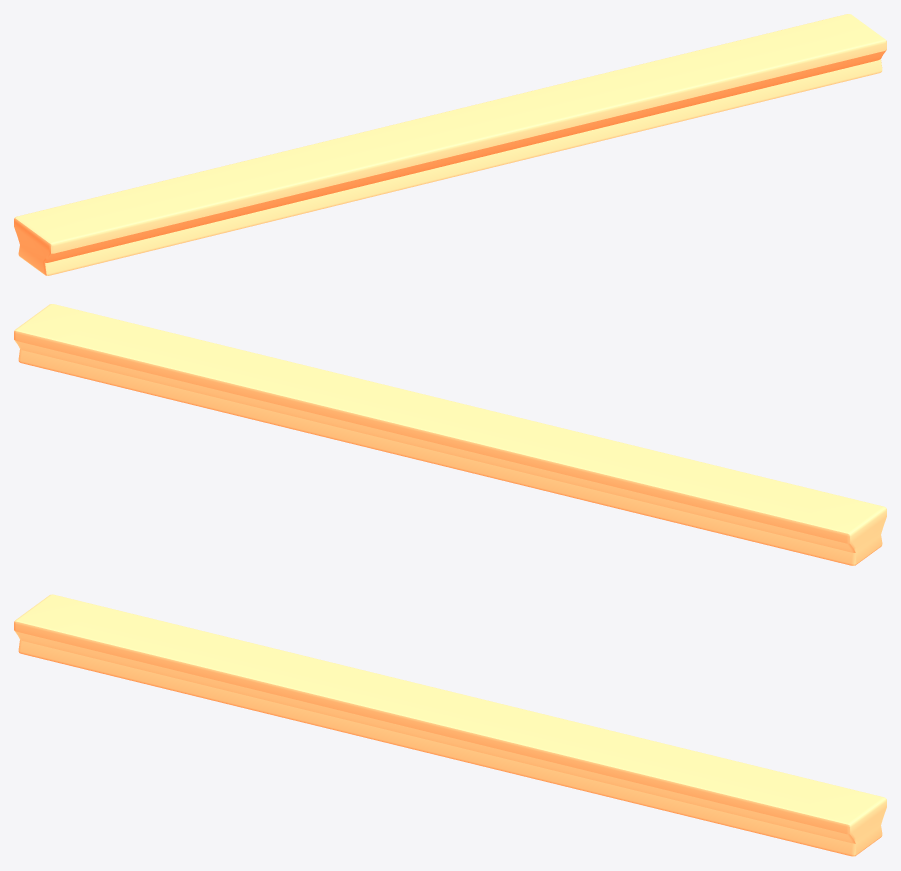
The model's file is SM_Trim_Walls03.fbx.
The picture shows the model from 3 angles, top to bottom: view 1: azimuth 30°, elevation 25°; view 2: azimuth 150°, elevation 25°; view 3: azimuth 330°, elevation 25°; orthographic projection.
Visible parts, largest first — view 1: SM_Trim_Walls03_LOD0; view 2: SM_Trim_Walls03_LOD0; view 3: SM_Trim_Walls03_LOD0.
Part boxes in pixels (x1,y1,x2,y2): SM_Trim_Walls03_LOD0: (14,14,886,275); SM_Trim_Walls03_LOD0: (14,304,886,565); SM_Trim_Walls03_LOD0: (14,594,886,856).
Bounding box in the file's own units: 402 × 31.67 × 16.92.
